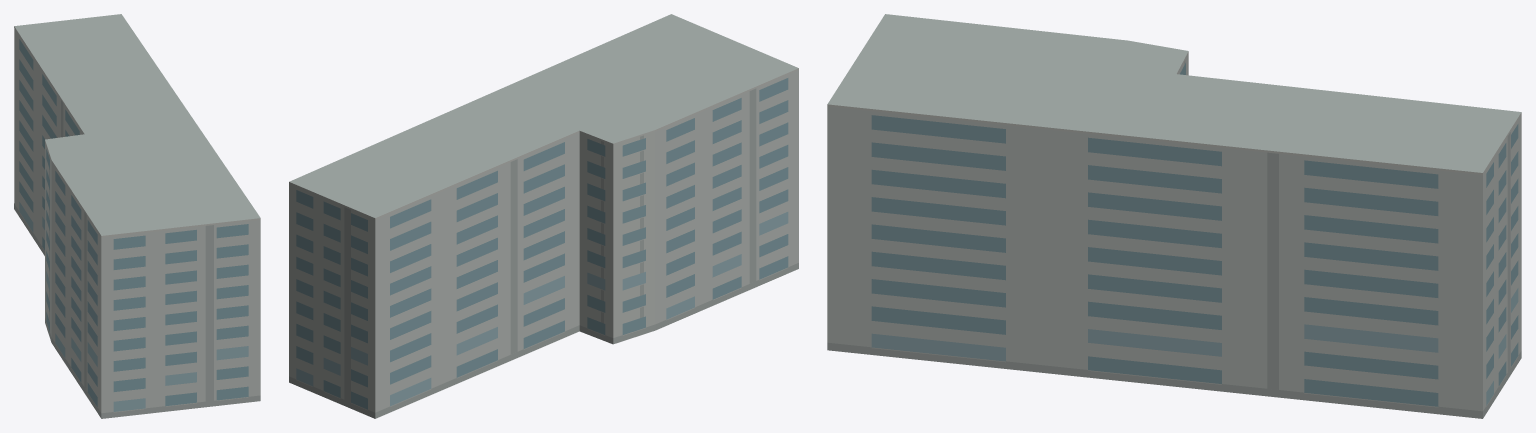
Rendered from survey-upis-32636161.glb.
The picture shows the model from 3 angles, left to right: view 1: azimuth 30°, elevation 25°; view 2: azimuth 150°, elevation 25°; view 3: azimuth 270°, elevation 25°; orthographic projection. The views are drawn at different scales.
Visible parts, largest first — view 1: survey-upis-32636161.tmp; view 2: survey-upis-32636161.tmp; view 3: survey-upis-32636161.tmp.
Part boxes in pixels (bbox=[...]): survey-upis-32636161.tmp: bbox=[14, 14, 260, 418]; survey-upis-32636161.tmp: bbox=[289, 14, 798, 418]; survey-upis-32636161.tmp: bbox=[827, 14, 1521, 418].
Bounding box in the file's own units: 38.08 × 27.45 × 70.25.
